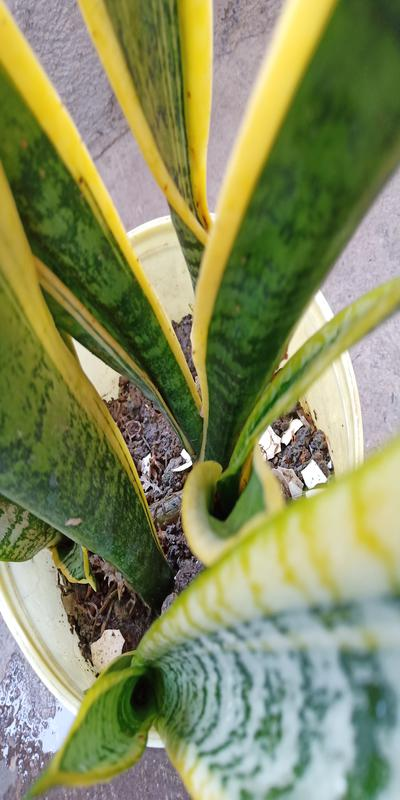Snake plant: (14, 6, 381, 704)
